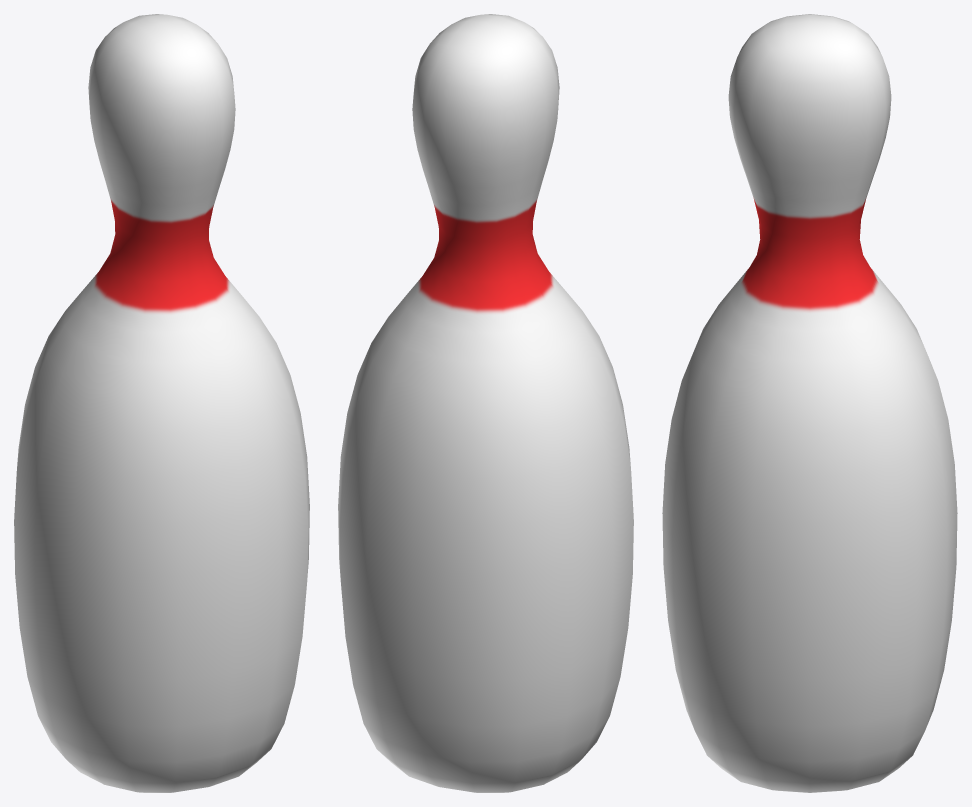
The model's file is Pino.fbx.
3 renders of one model, left to right at view 1: azimuth 30°, elevation 25°; view 2: azimuth 150°, elevation 25°; view 3: azimuth 270°, elevation 25°, orthographic.
Visible parts, largest first — view 1: Pino; view 2: Pino; view 3: Pino.
Boxes of the visible parts, left/top/right/bottom form: Pino: left=14, top=14, right=309, bottom=792; Pino: left=338, top=14, right=633, bottom=792; Pino: left=662, top=14, right=957, bottom=792.
Bounding box in the file's own units: 155 × 431 × 155.
1 material, 1 textured.
